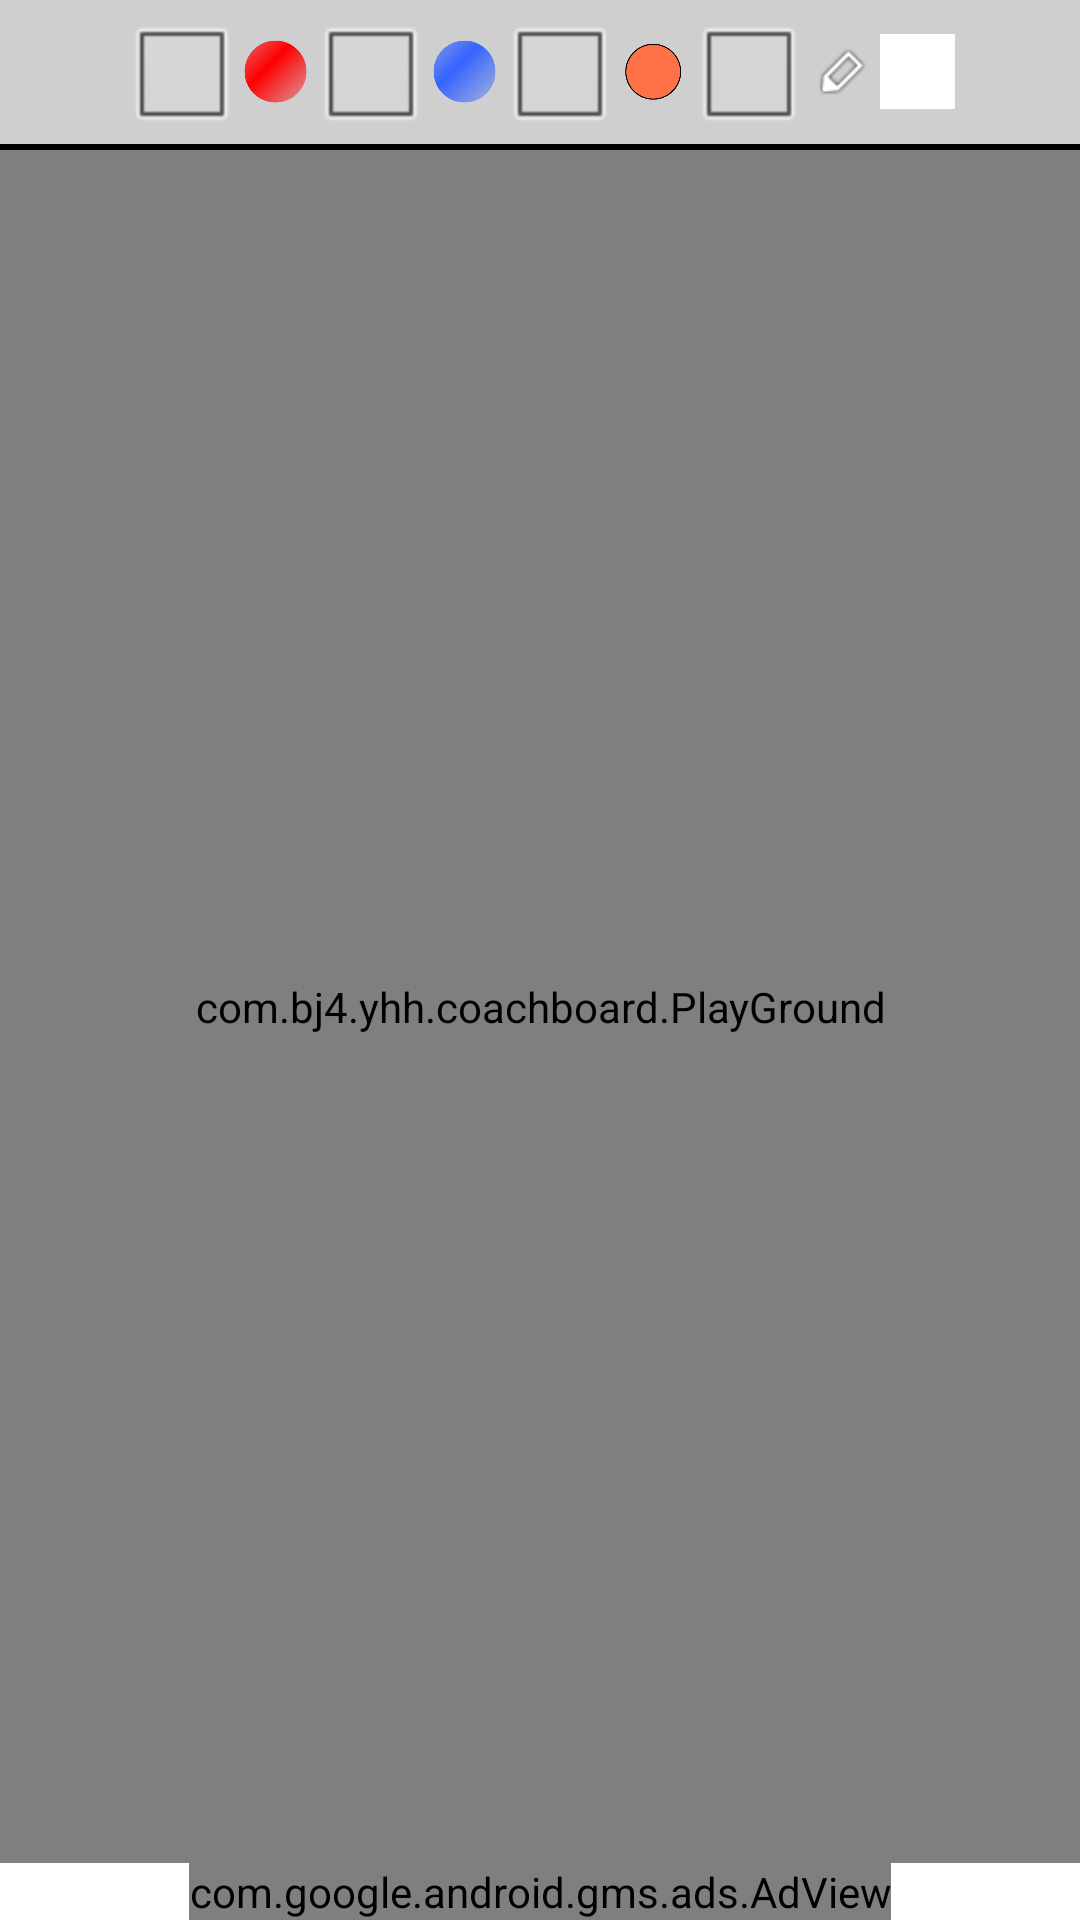

Screen size 1080x1920. Icon name, then its box in pixels as (x1, y1, x2, y2):
pen: (820, 50, 864, 94)
